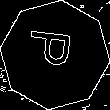P_E: (28, 34, 82, 76)
